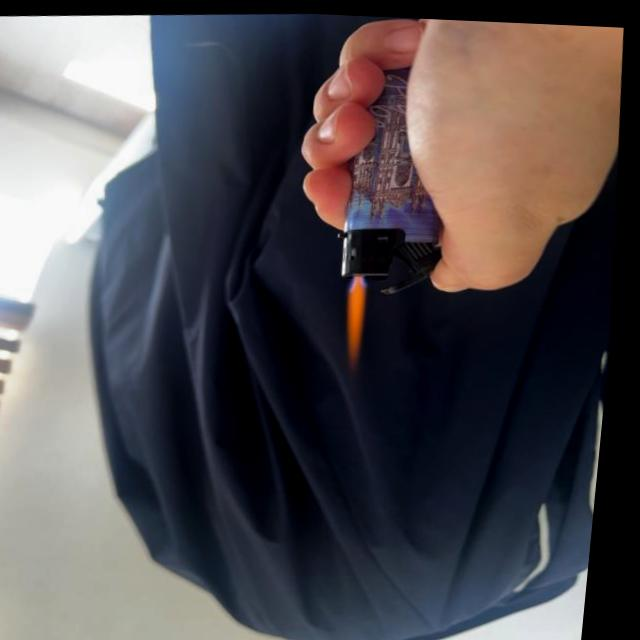Fire: (342, 277, 380, 364)
